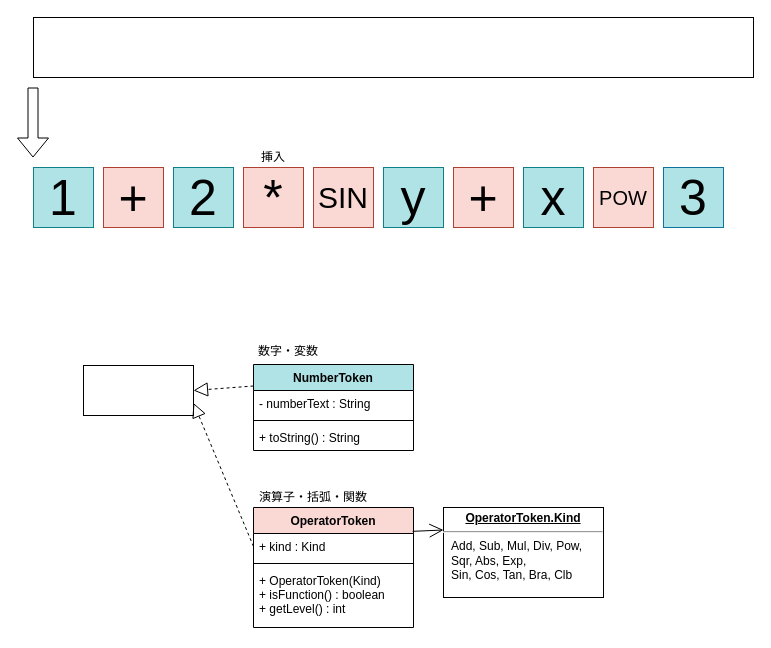
The diagram is 771 pixels wide and 648 high, and some of its shapes have lost their labels. The shapes that lost their labels are listed below. From the top down, each one's centre as x and y in pixels, then its label:
At point (393, 47): "1+2siny+x**3".
At point (138, 390): "«interface» Token".
